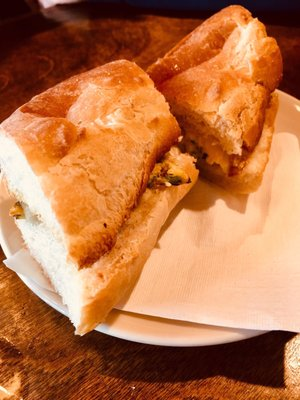soup: (0, 54, 201, 338), (145, 4, 283, 197)
